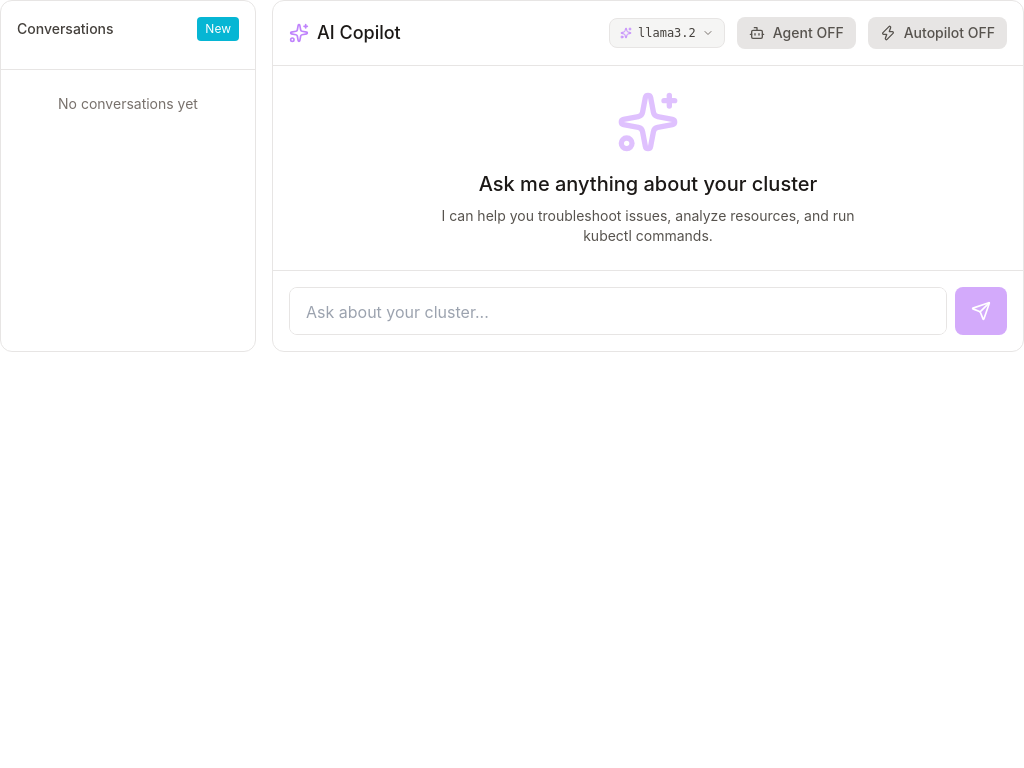
Test: CurrentModelChip › closes the popover on outside click
Click the button titled "Ollama — llama3.2". click: click(667, 33)
box: [609,18,725,48]
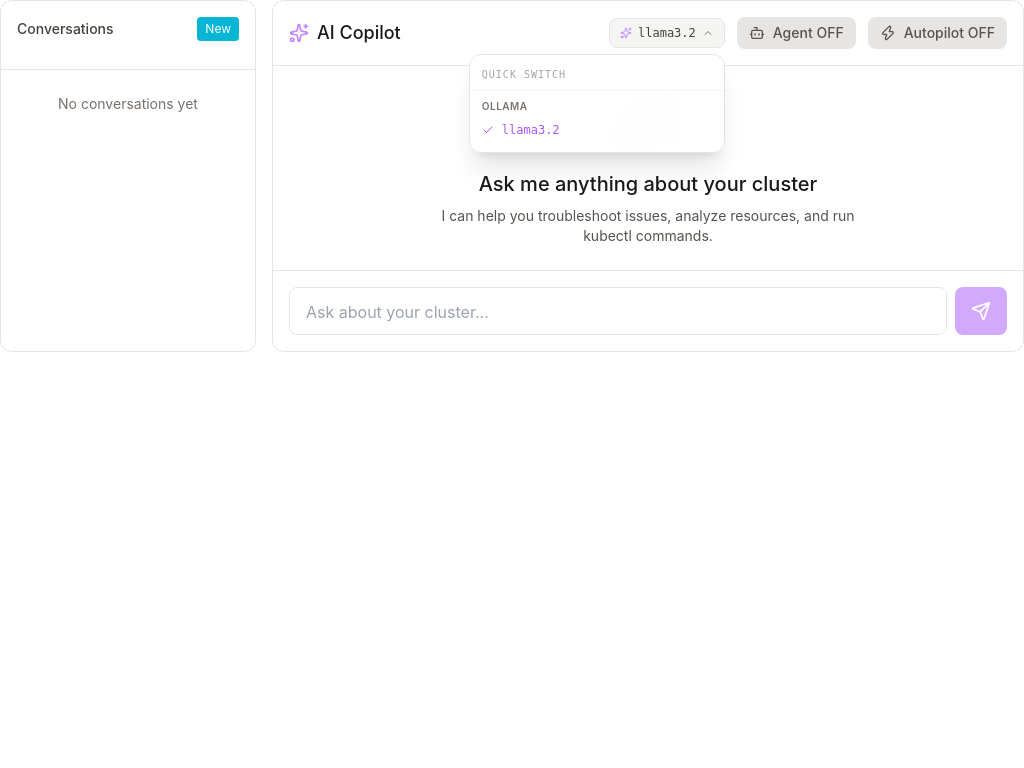
Expected: the menu is shown, [469,54,725,153]
Note: Simulate mousedown on document.body (outside the popover).
Press the mouse on the element that starts with "Conversations" at (512, 384), box [0,0,1023,767]
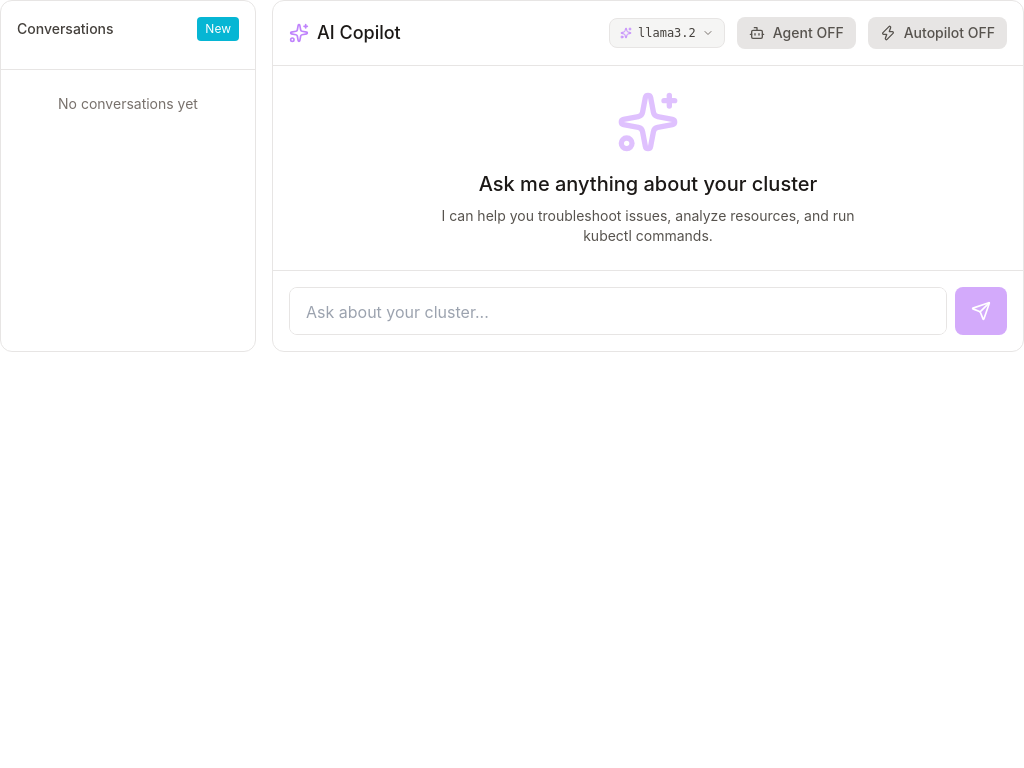
Expected: the menu is gone
